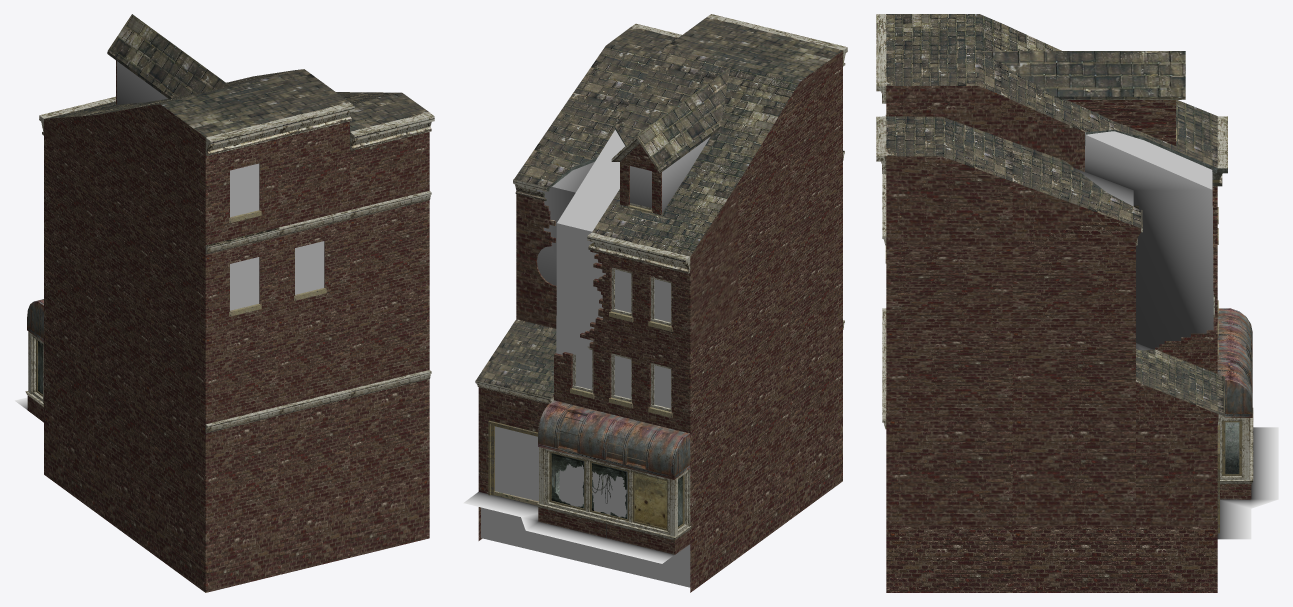
The model's file is RowHouse03.FBX.
3 renders of one model, left to right at view 1: azimuth 30°, elevation 25°; view 2: azimuth 150°, elevation 25°; view 3: azimuth 270°, elevation 25°, orthographic. The views are drawn at different scales.
Parts seen in each view (by area): view 1: RowHouse03:13, RowHouse03:16, RowHouse03_lod:0; view 2: RowHouse03:13, RowHouse03:16, RowHouse03_lod:0, RowHouse03:14, RowHouse03:12, RowHouse03:34; view 3: RowHouse03:13, RowHouse03:16, RowHouse03_lod:0, RowHouse03:14.
Part boxes in pixels (box(x1,y1,x2,y2)): RowHouse03:13: box(27, 60, 429, 592); RowHouse03:16: box(25, 14, 434, 433); RowHouse03_lod:0: box(117, 61, 324, 310); RowHouse03:13: box(478, 51, 842, 592); RowHouse03:16: box(475, 14, 847, 540); RowHouse03_lod:0: box(481, 129, 710, 587); RowHouse03:14: box(463, 491, 674, 563); RowHouse03:12: box(634, 473, 666, 528); RowHouse03:34: box(551, 416, 645, 518); RowHouse03:13: box(886, 86, 1251, 592); RowHouse03:16: box(876, 14, 1253, 533); RowHouse03_lod:0: box(1076, 131, 1213, 350); RowHouse03:14: box(1217, 427, 1278, 539).
Size of the model in its own units: 6.45 by 12.44 by 9.72.
